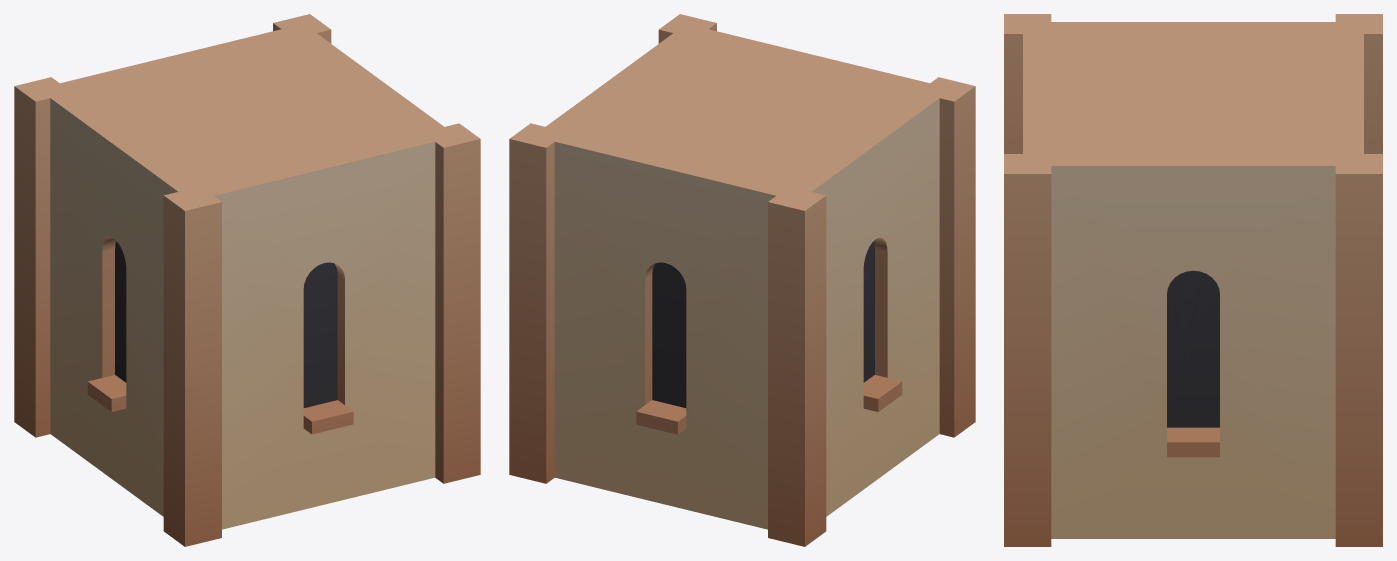
File: tower-square-mid-windows.glb
The picture shows the model from 3 angles, left to right: view 1: azimuth 30°, elevation 25°; view 2: azimuth 150°, elevation 25°; view 3: azimuth 270°, elevation 25°; orthographic projection. The views are drawn at different scales.
Visible parts, largest first — view 1: tower-square-mid-windows; view 2: tower-square-mid-windows; view 3: tower-square-mid-windows.
Boxes of the visible parts, box(x1,y1,x2,y2) form: tower-square-mid-windows: box(14, 14, 480, 546); tower-square-mid-windows: box(509, 14, 975, 546); tower-square-mid-windows: box(1004, 14, 1382, 546).
Size of the model in its own units: 0.93 by 1.01 by 0.93.
